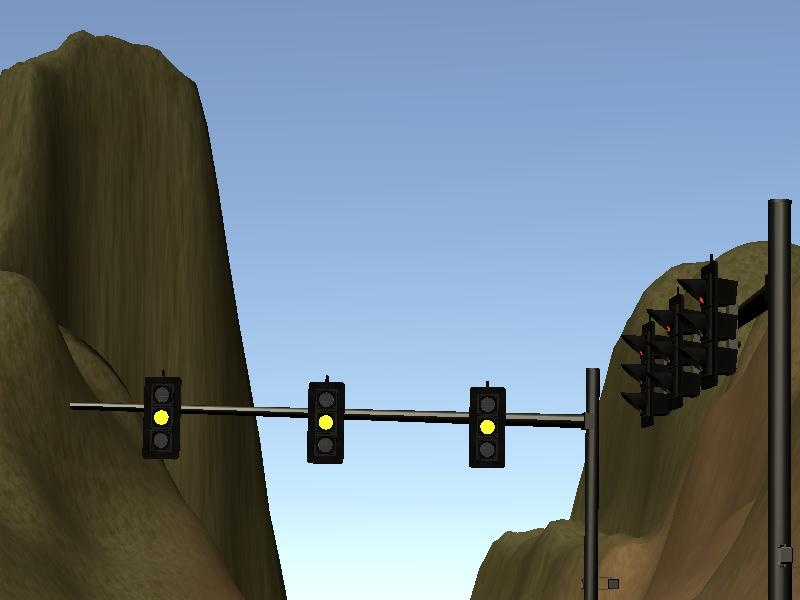YELLOW: (143, 371, 183, 457), (306, 379, 346, 465), (467, 382, 507, 468)
